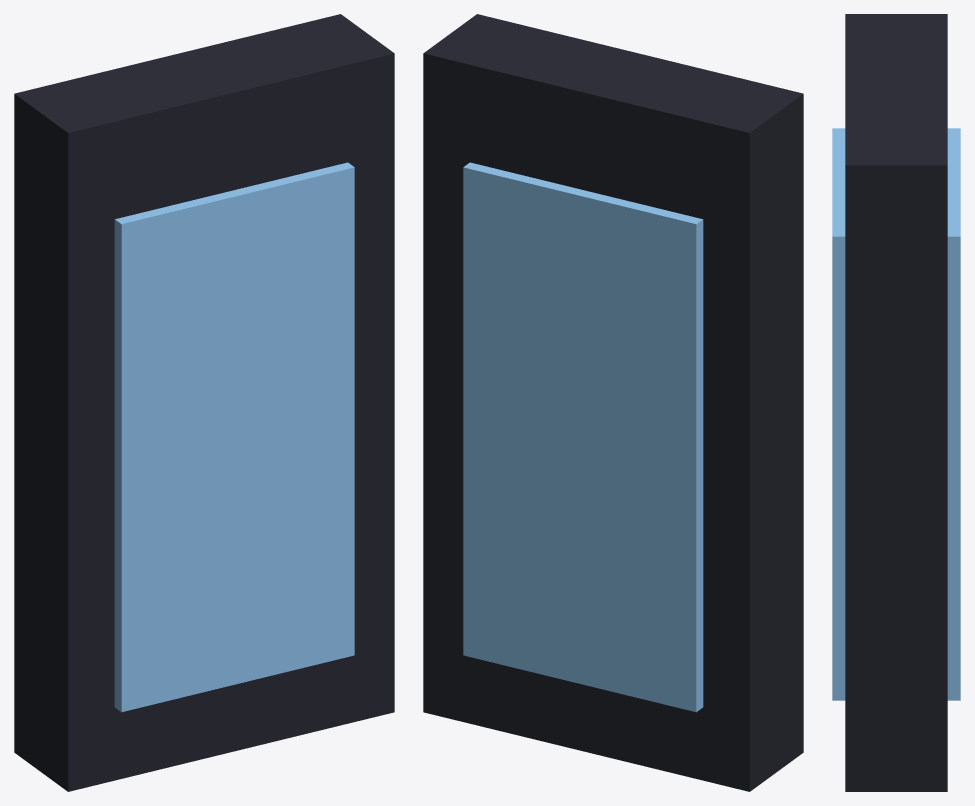
The model's file is phone.glb.
3 views of the same model, side by side, from view 1: azimuth 30°, elevation 25°; view 2: azimuth 150°, elevation 25°; view 3: azimuth 270°, elevation 25° (orthographic). The views are drawn at different scales.
Visible parts, largest first — view 1: phone; view 2: phone; view 3: phone.
Boxes of the visible parts, x1=… form: phone: x1=14, y1=14, x2=394, y2=791; phone: x1=423, y1=14, x2=803, y2=791; phone: x1=832, y1=14, x2=960, y2=791.
Size of the model in its own units: 0.07 by 0.135 by 0.025.
Materials: 1 (1 with a texture image).
